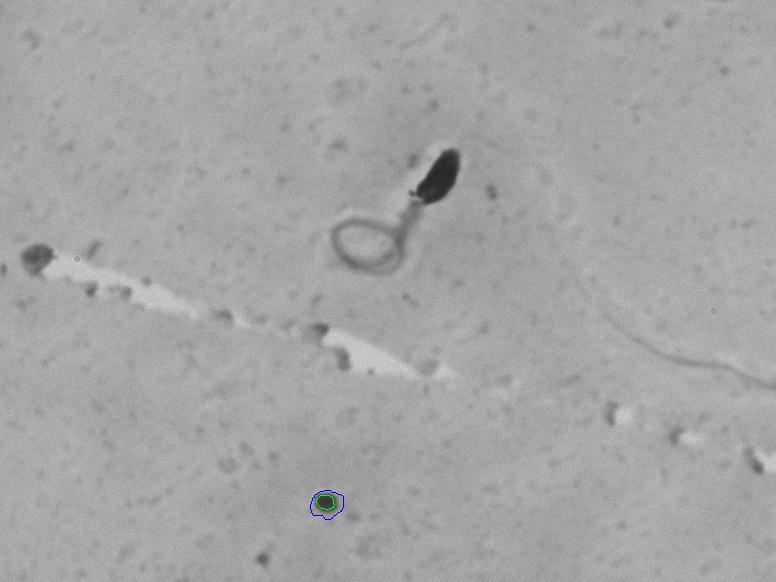Abnormal: (287, 105, 494, 301)
